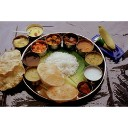poori: (39, 62, 65, 87), (45, 82, 79, 100)
